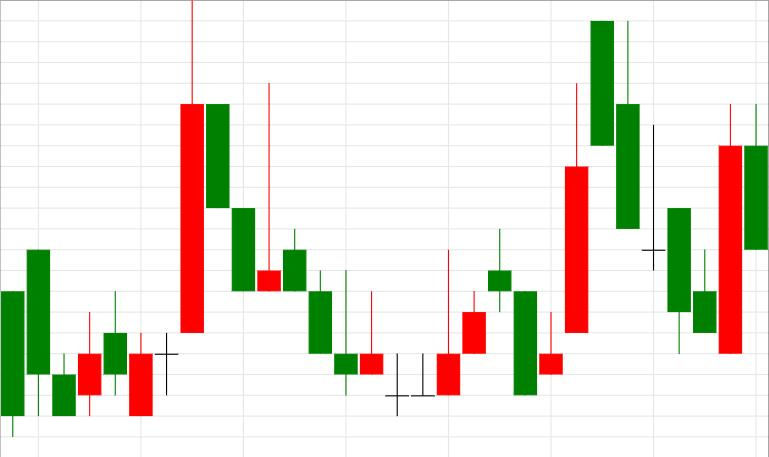bullish_engulfing_rise: (591, 21, 742, 354)
evening_star_fall: (385, 229, 538, 416)
inverse_hammer_rise: (206, 82, 358, 395)
